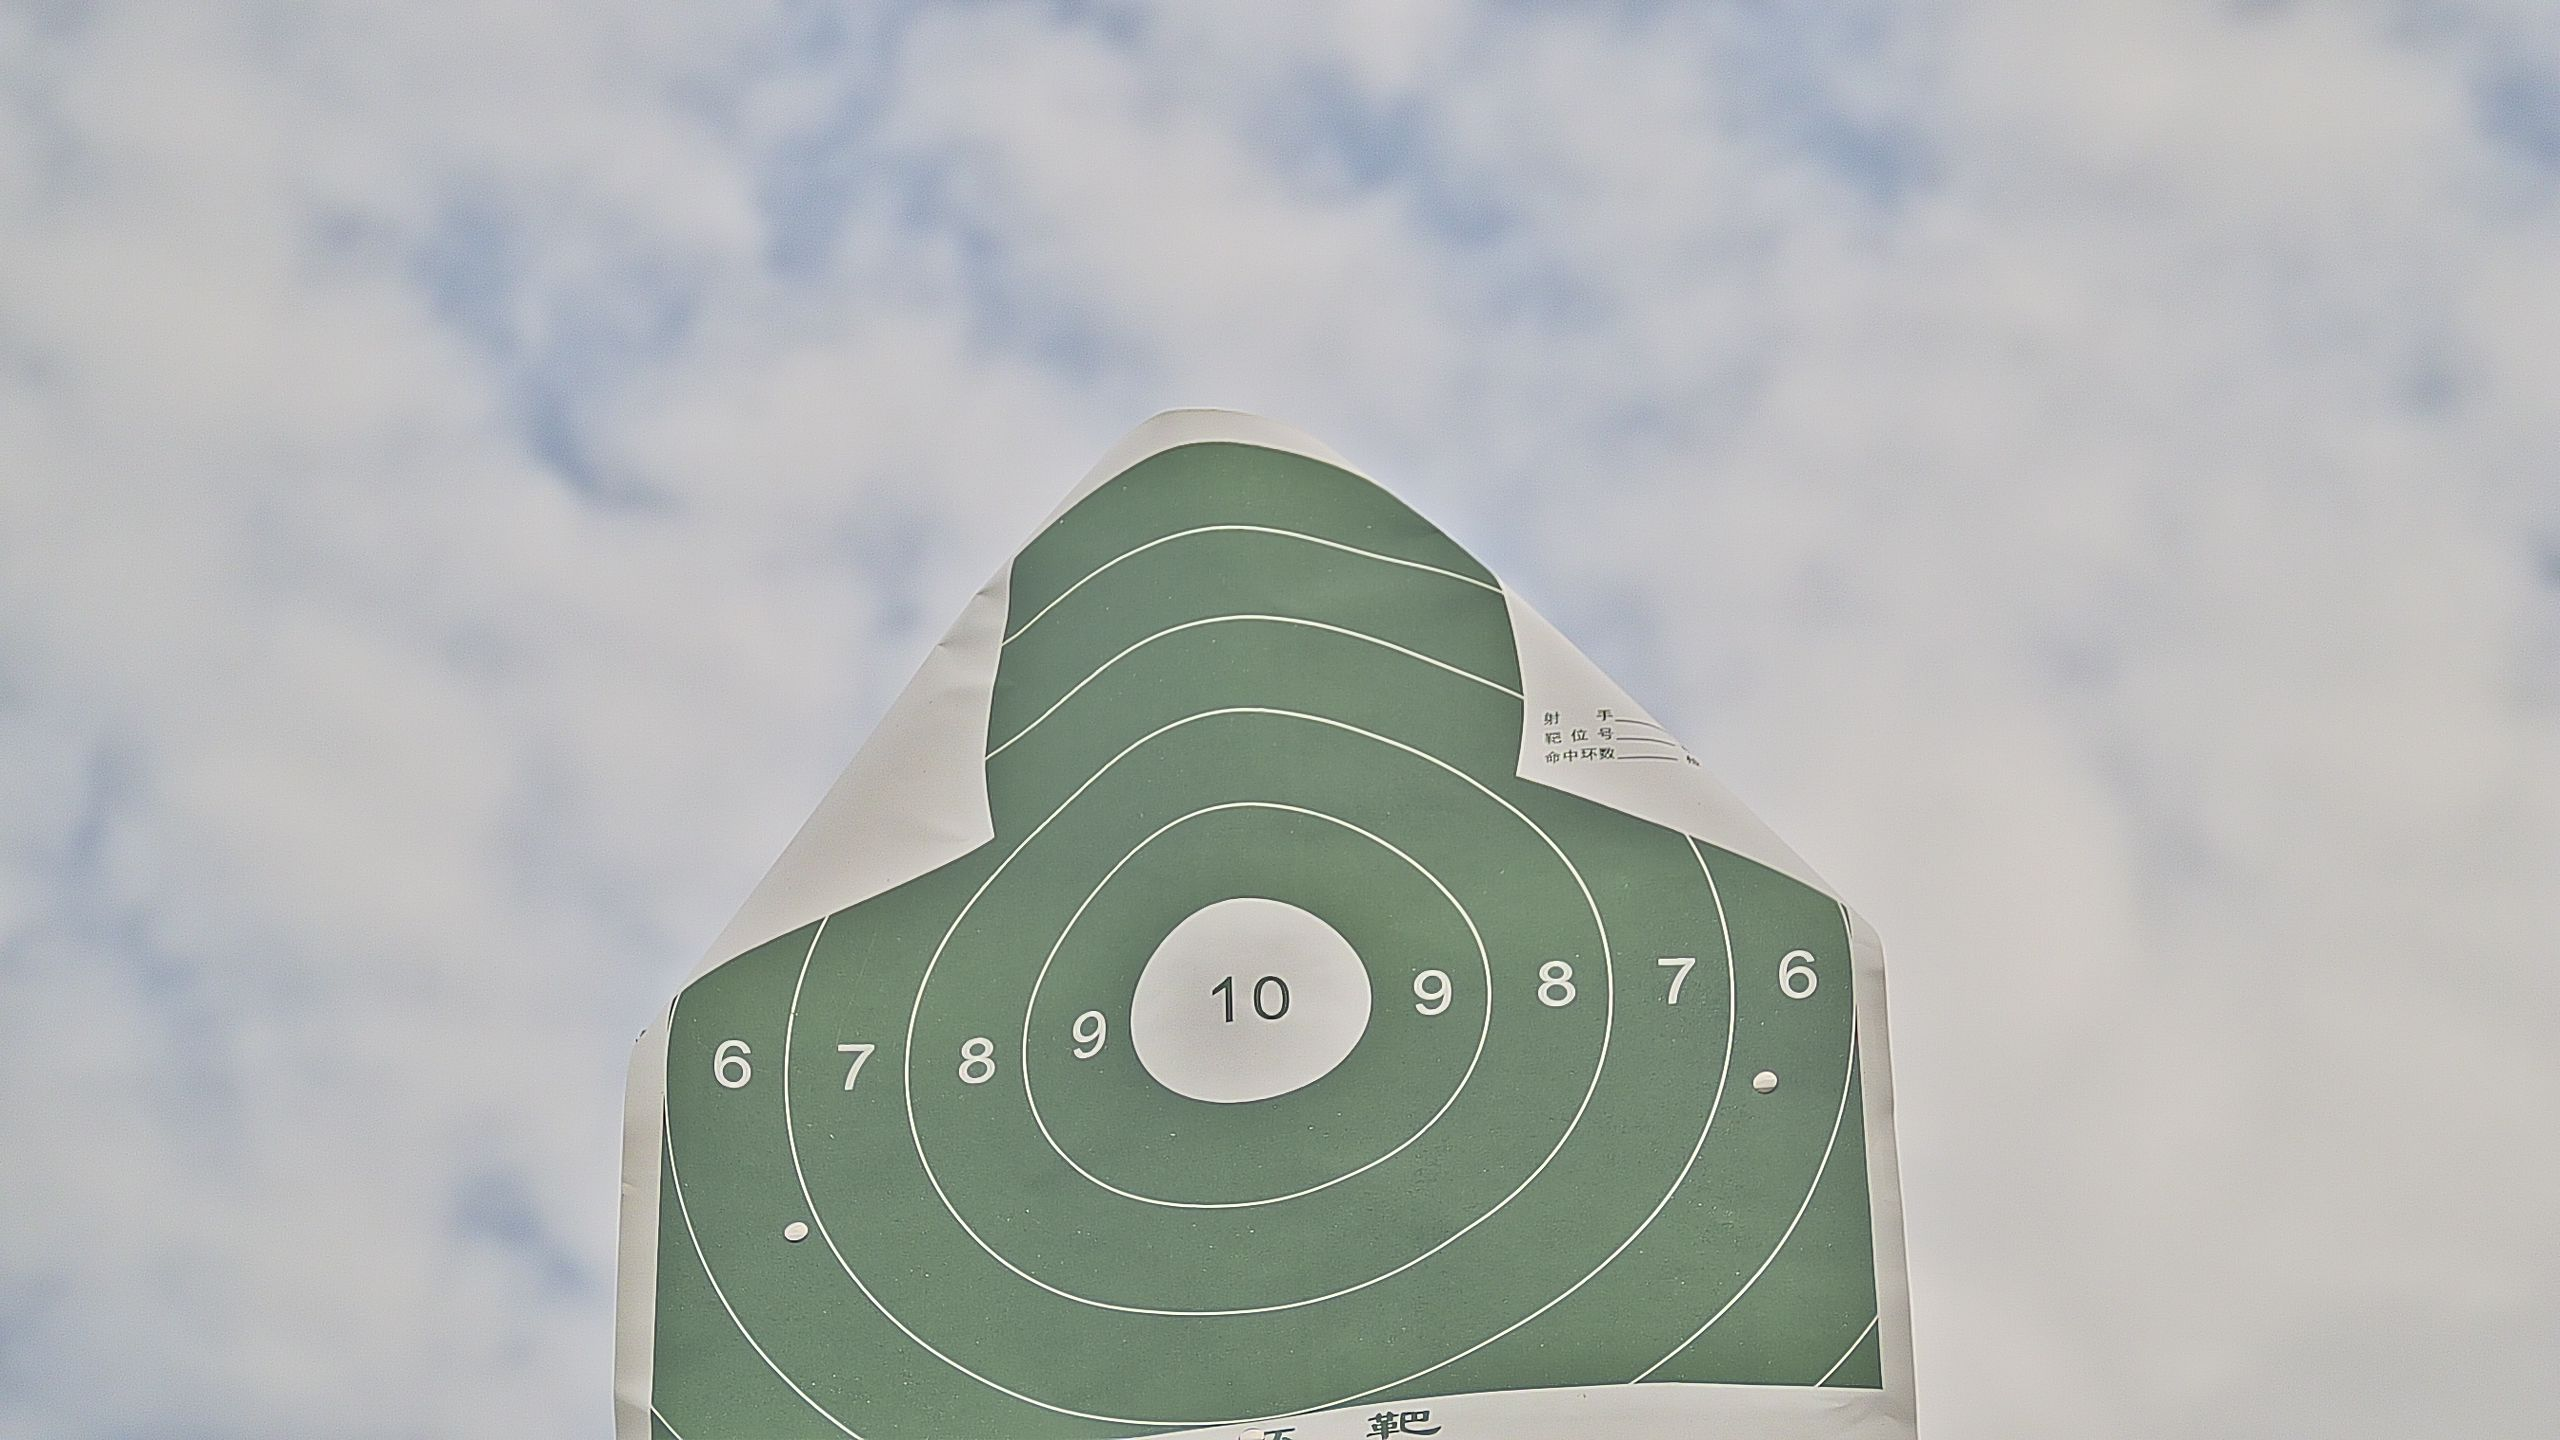kernel: (1240, 1000, 1248, 1006)
target: (636, 447, 1887, 1440)
ten: (1127, 897, 1377, 1109)
